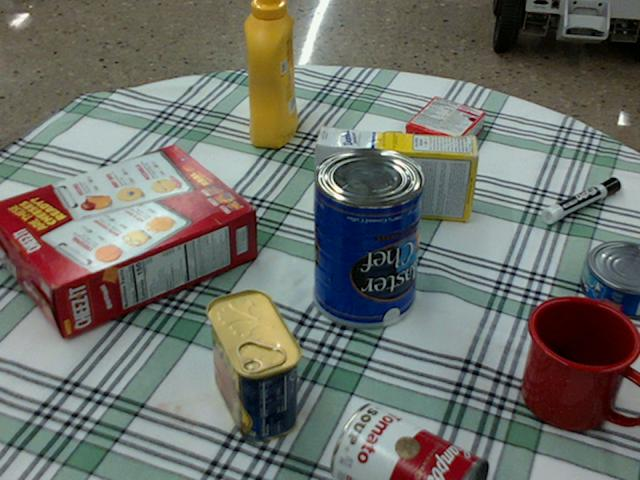cracker_box: (0, 146, 253, 337)
gelatin_box: (404, 96, 484, 158)
large_marker: (541, 177, 619, 223)
master_chef_can: (313, 147, 426, 326)
mug: (521, 296, 639, 430)
mustard_bottle: (243, 0, 296, 147)
potted_meat_can: (206, 289, 302, 440)
sugar_box: (313, 128, 478, 221)
tomato_soup_can: (331, 404, 489, 479)
tuna_fish_can: (582, 241, 639, 317)
